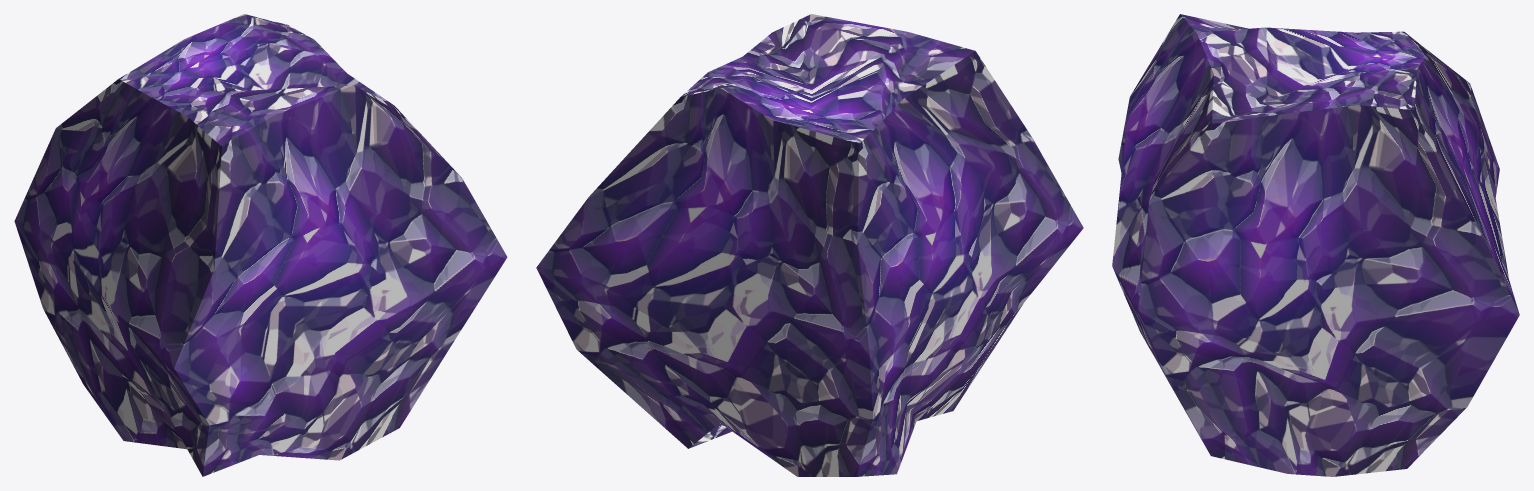
File: asteroid.obj
The picture shows the model from 3 angles, left to right: view 1: azimuth 30°, elevation 25°; view 2: azimuth 150°, elevation 25°; view 3: azimuth 270°, elevation 25°; orthographic projection. The views are drawn at different scales.
Visible parts, largest first — view 1: Box; view 2: Box; view 3: Box.
Boxes of the visible parts, x1=… form: Box: x1=14, y1=14, x2=507, y2=476; Box: x1=536, y1=14, x2=1083, y2=476; Box: x1=1112, y1=14, x2=1519, y2=476.
Size of the model in its own units: 1.1 by 1.12 by 1.08.
1 material, 1 textured.
